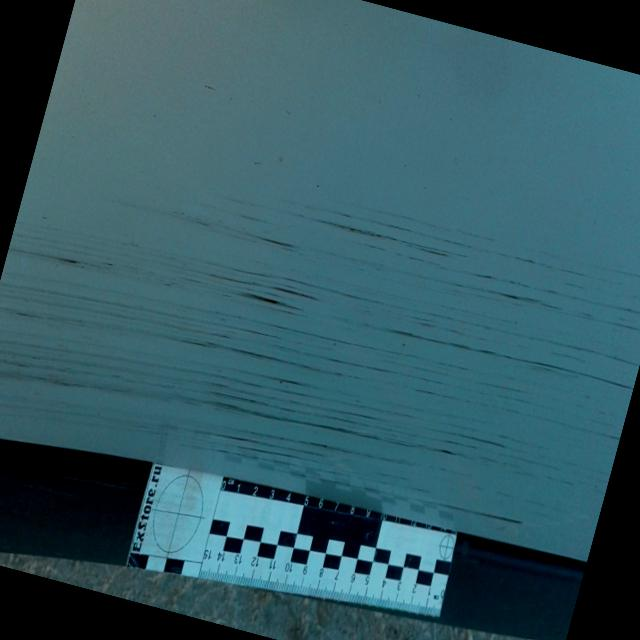Rayure: (0, 217, 634, 611), (151, 235, 639, 376)
